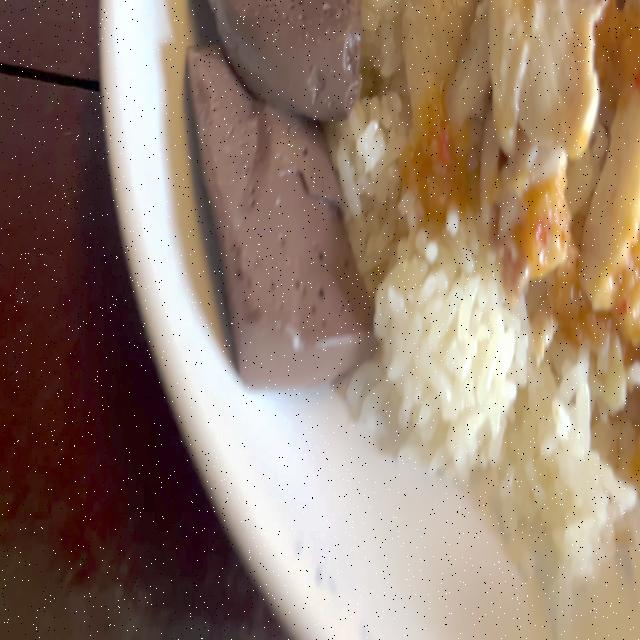boiled_chicken: (382, 0, 640, 391)
boiled_chicken_blood_jelly: (185, 0, 376, 382)
chicken_rice: (172, 0, 640, 640)
